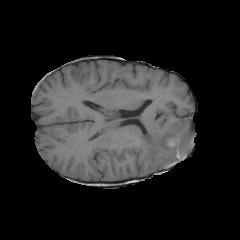glioma: (130, 112, 196, 169)
